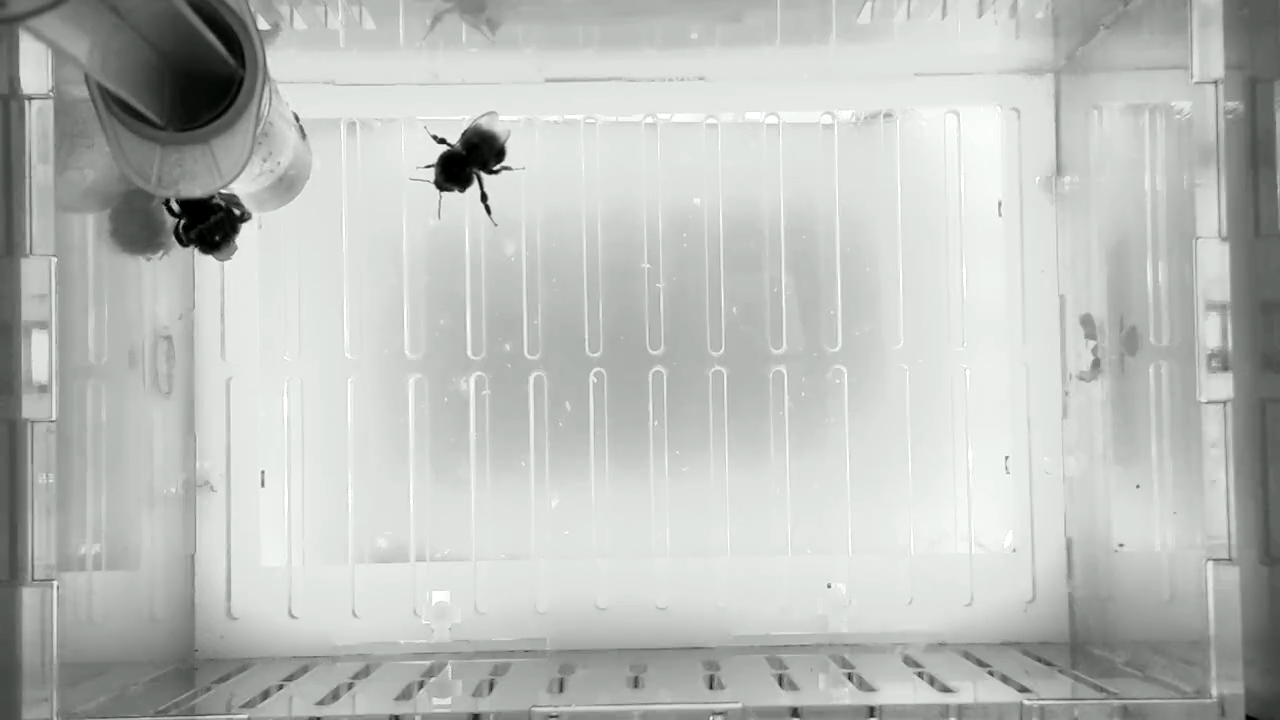bee: (408, 108, 530, 230), (162, 187, 250, 267)
feeder: (205, 67, 316, 217)
